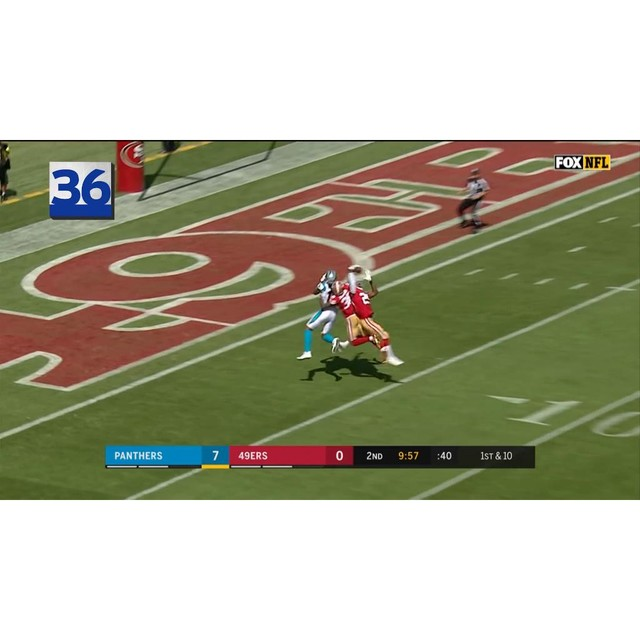american-football-player: (348, 274, 403, 363), (295, 270, 341, 359), (332, 282, 379, 360), (456, 167, 491, 233)
